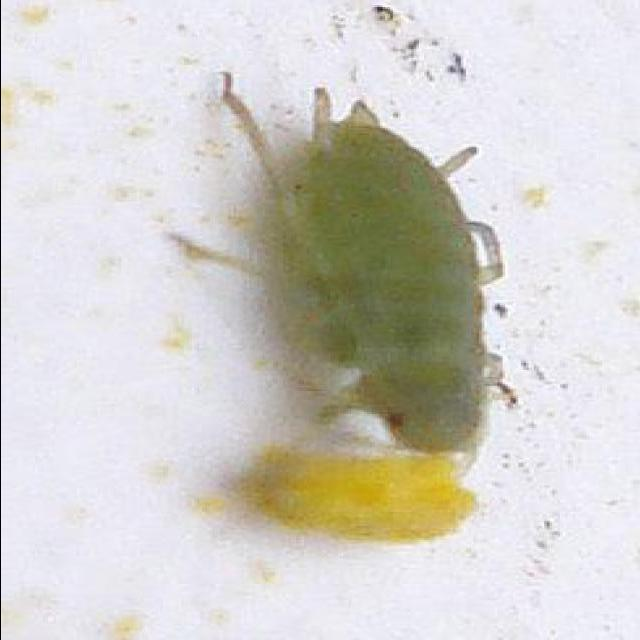aphid: (133, 70, 564, 456)
